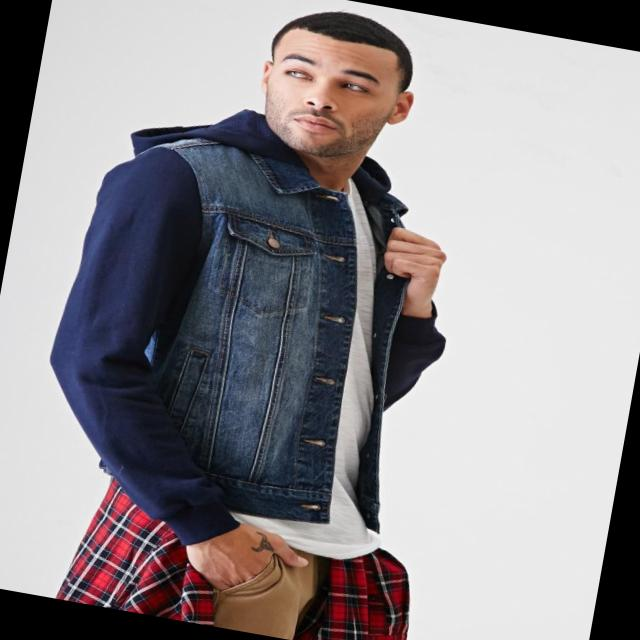Jacket: (12, 98, 464, 550)
